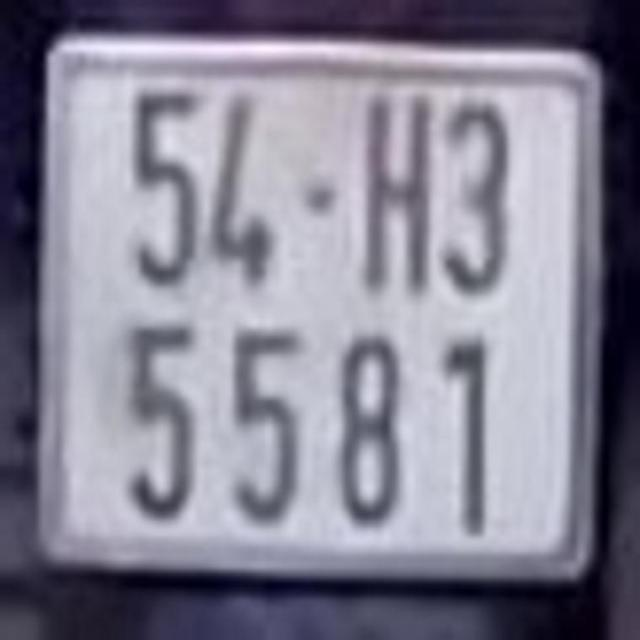1: (431, 313, 516, 538)
3: (440, 83, 514, 312)
4: (213, 65, 279, 296)
5: (220, 302, 310, 524), (124, 310, 208, 520), (124, 63, 200, 283)
8: (332, 306, 412, 525)
H: (356, 80, 440, 306)
